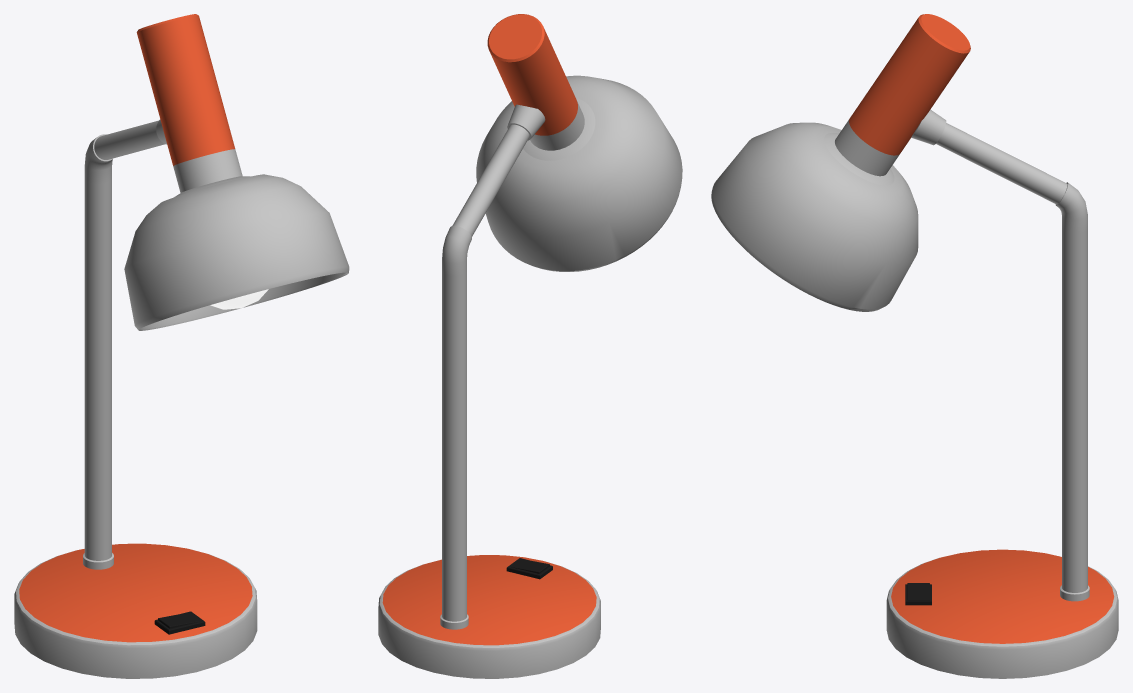
File: Lampe_Macintosh.glb
The picture shows the model from 3 angles, left to right: view 1: azimuth 30°, elevation 25°; view 2: azimuth 150°, elevation 25°; view 3: azimuth 270°, elevation 25°; orthographic projection. The views are drawn at different scales.
Visible parts, largest first — view 1: Cylindre; view 2: Cylindre; view 3: Cylindre.
Boxes of the visible parts, left/top/right/bottom form: Cylindre: left=14, top=14, right=349, bottom=678; Cylindre: left=378, top=14, right=682, bottom=678; Cylindre: left=711, top=14, right=1118, bottom=678.
Size of the model in its own units: 0.0446 by 0.1299 by 0.0783.
